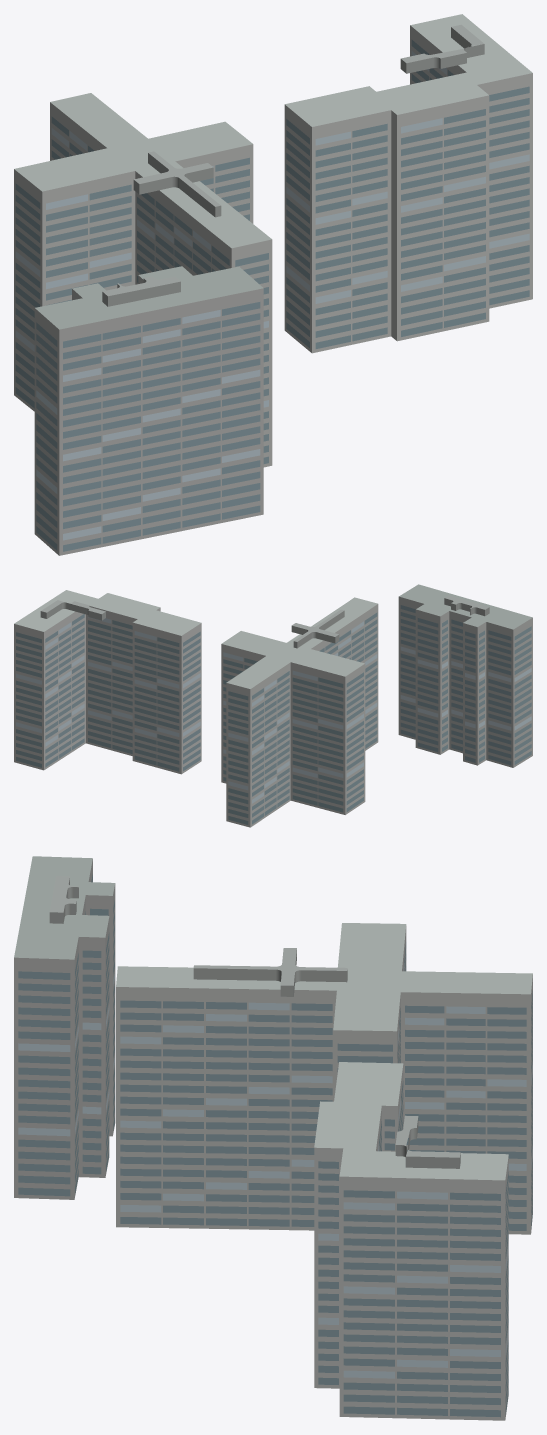
The model's file is apt-a12181403.glb.
The picture shows the model from 3 angles, top to bottom: view 1: azimuth 30°, elevation 25°; view 2: azimuth 150°, elevation 25°; view 3: azimuth 270°, elevation 25°; orthographic projection. The views are drawn at different scales.
Parts seen in each view (by area): view 1: apt-a12181403; view 2: apt-a12181403; view 3: apt-a12181403.
Part boxes in pixels (x1,y1,x2,y2): apt-a12181403: [14, 14, 532, 555]; apt-a12181403: [14, 584, 532, 827]; apt-a12181403: [14, 856, 532, 1420].
Size of the model in its own units: 149 by 54 by 101.
